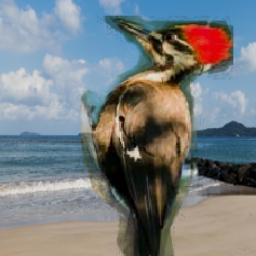Woodpecker: (76, 17, 233, 256)
